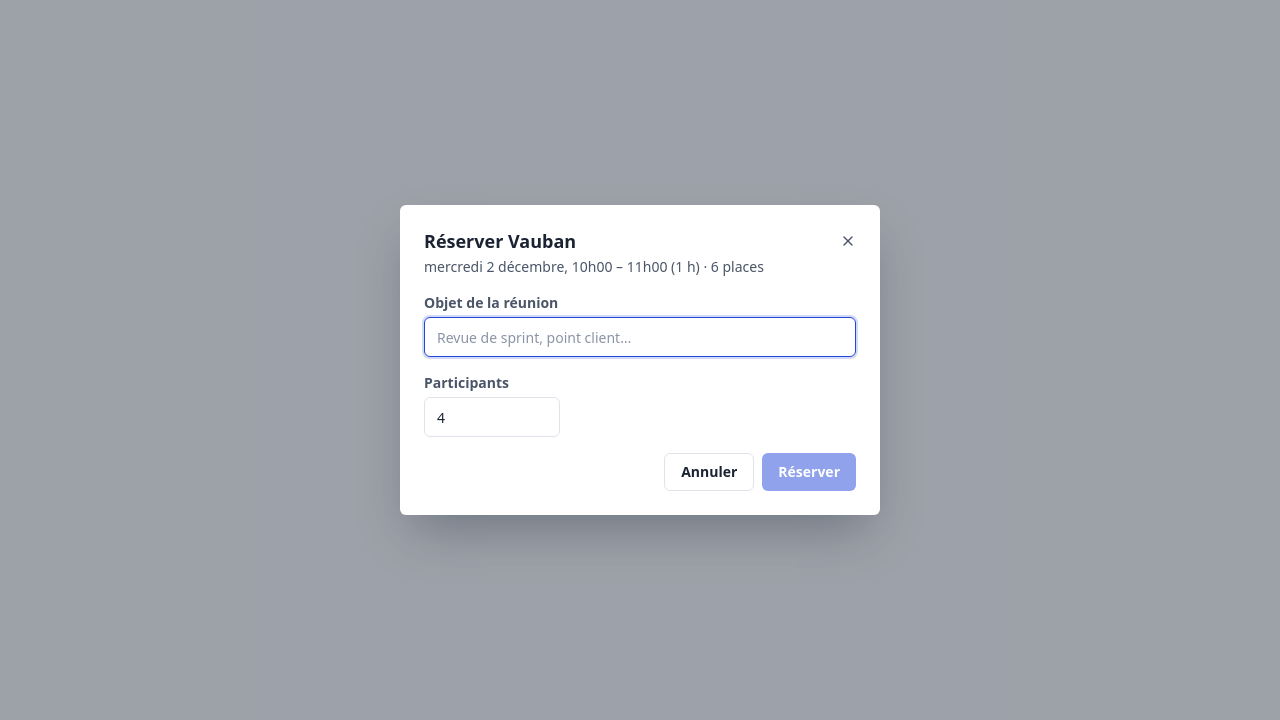
Test: BookingDialog › affiche la règle métier refusée par l’API
Type "Point" into the field with test id "booking-title". click: (640,337)
box: [424,317,856,357]
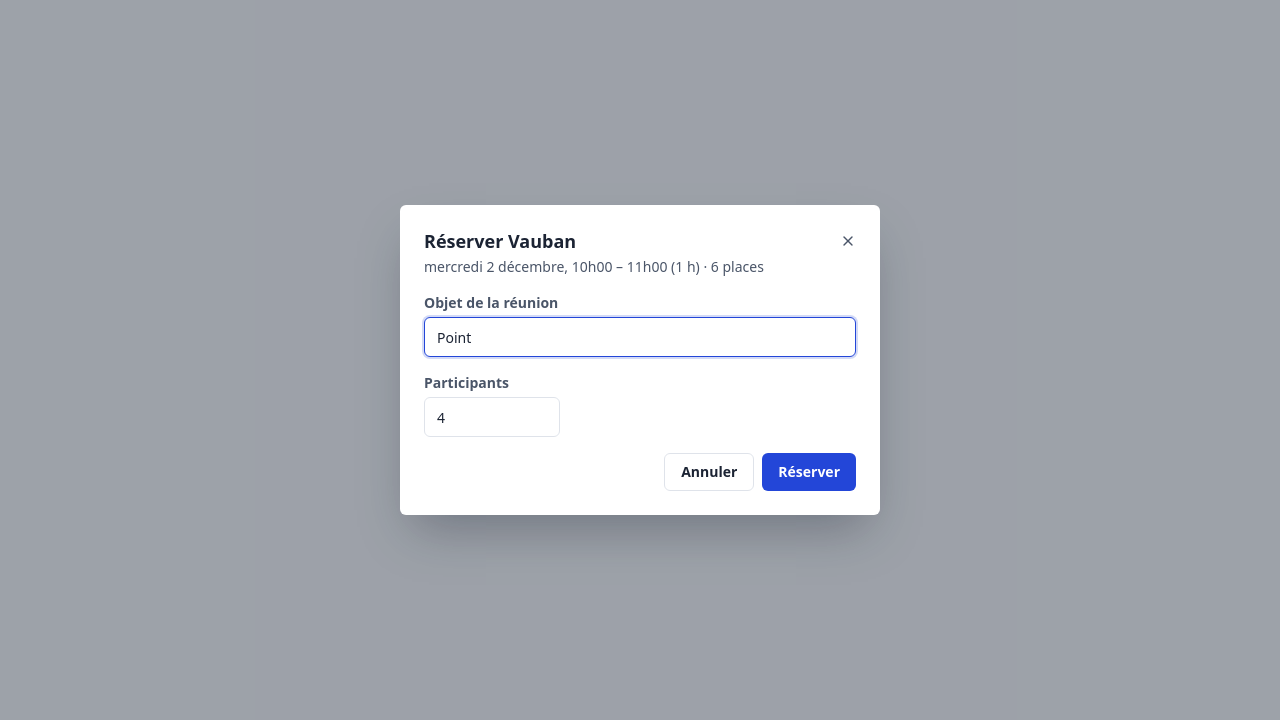
Click the button "Réserver". click: (809,472)
box: [762,453,856,491]
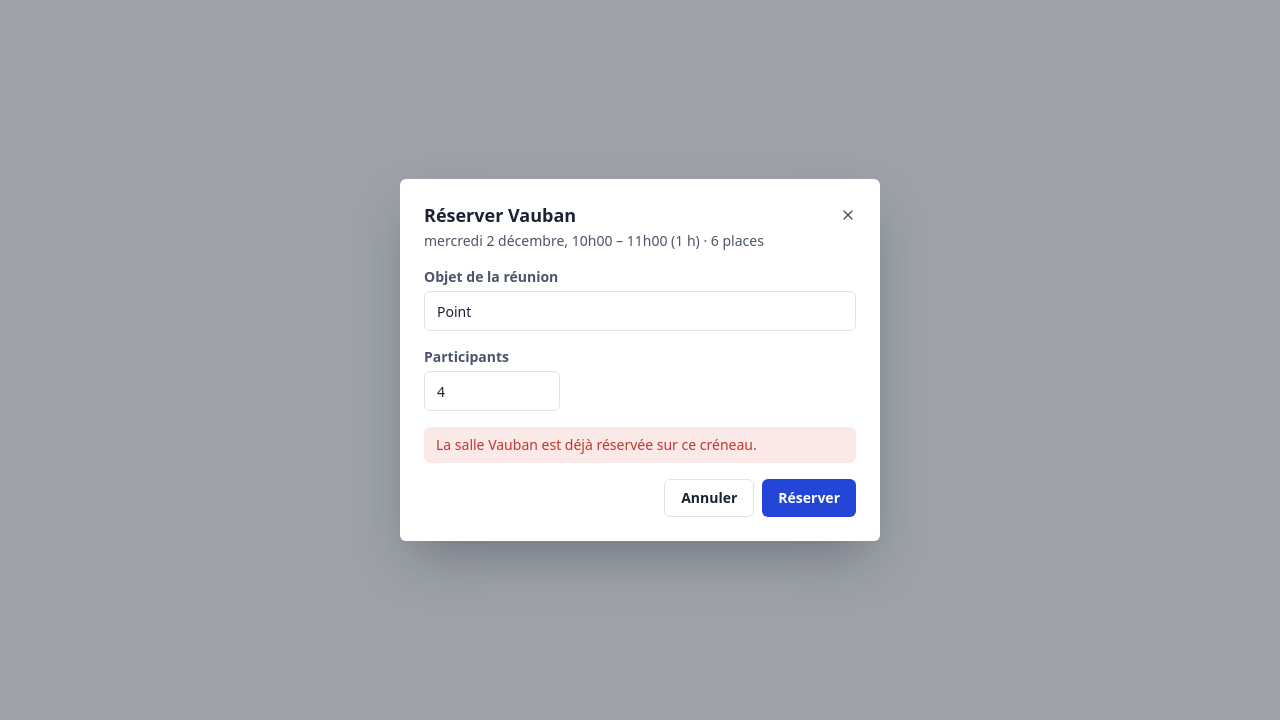
Check: the message shows "déjà réservée", box [436,435,757,454]
